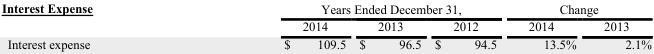table: (0, 1, 650, 51)
table column: (0, 1, 187, 51), (187, 1, 351, 51), (427, 1, 511, 51), (511, 1, 589, 51), (351, 1, 427, 51), (589, 1, 650, 51)
table column header: (0, 1, 650, 35)
table row: (0, 17, 650, 35), (0, 1, 650, 17), (0, 35, 650, 51)
table spanning cell: (0, 1, 187, 35), (187, 1, 511, 17), (511, 1, 650, 17)
